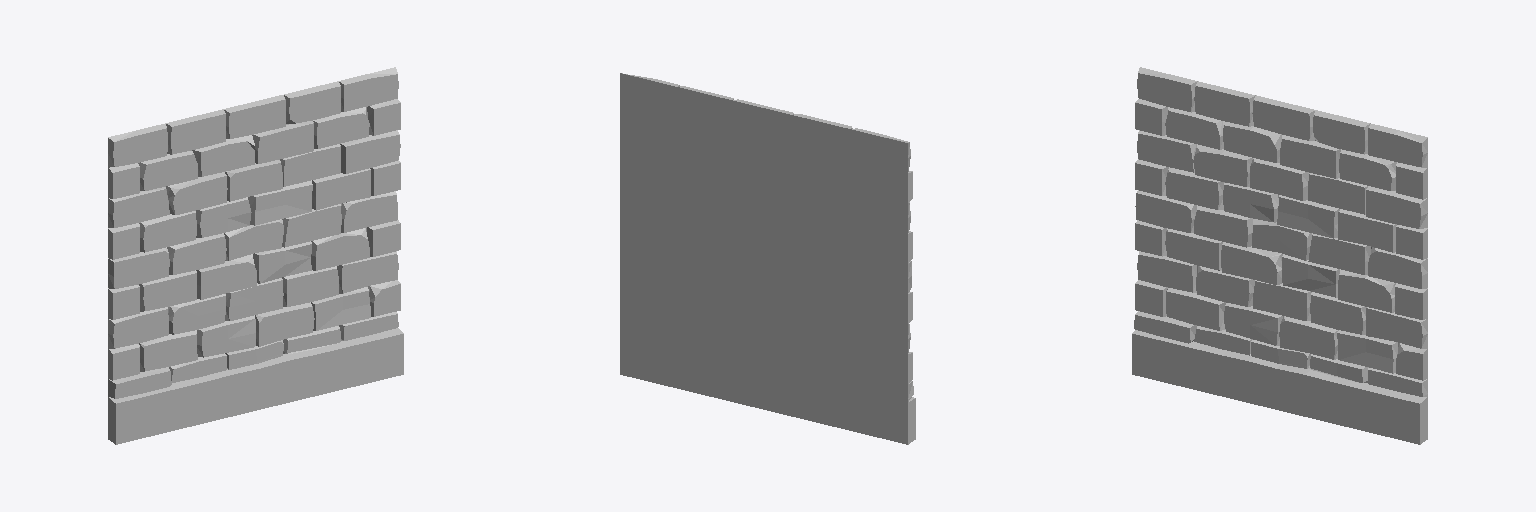
The model's file is wall.obj.
The picture shows the model from 3 angles: view 1: azimuth 30°, elevation 25°; view 2: azimuth 150°, elevation 25°; view 3: azimuth 330°, elevation 25°; orthographic projection.
Parts seen in each view (by area): view 1: Wall_27; view 2: Wall_27; view 3: Wall_27.
Part boxes in pixels (x1,y1,x2,y2): Wall_27: (108, 67, 403, 444); Wall_27: (620, 73, 915, 444); Wall_27: (1132, 67, 1427, 444).
Bounding box in the file's own units: 4 × 4 × 0.194.